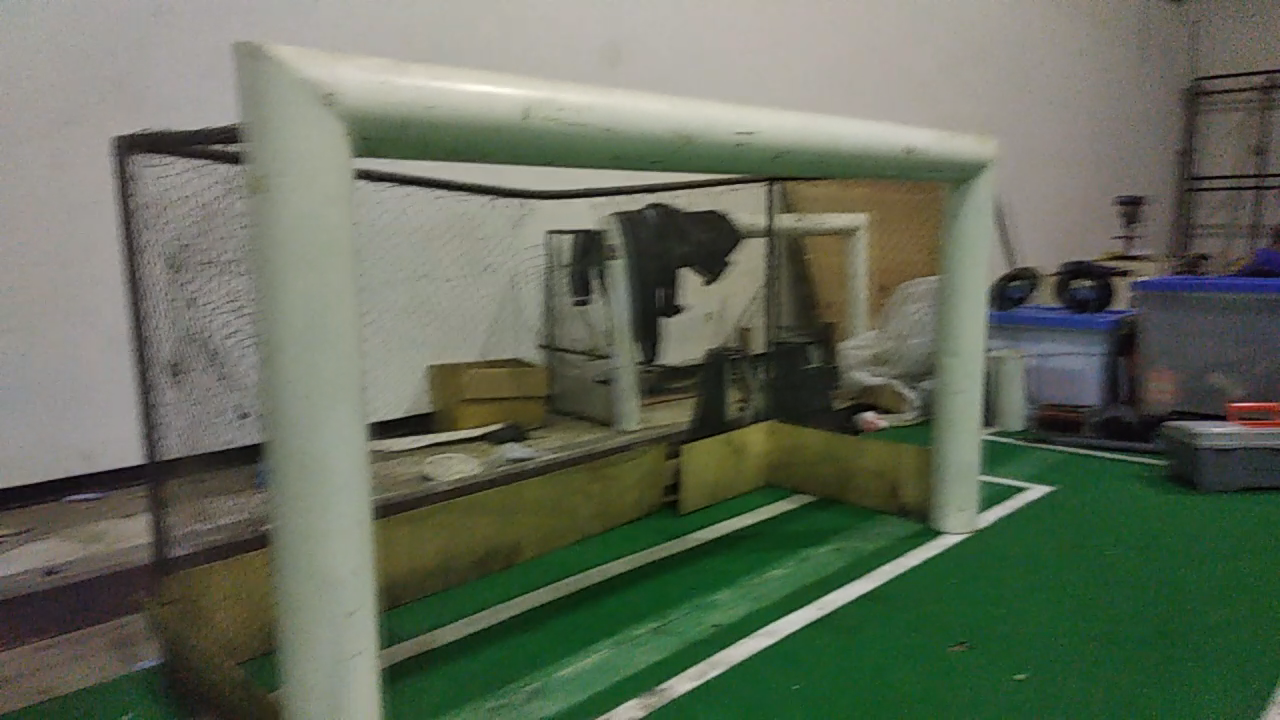gawang: (214, 29, 1002, 712)
